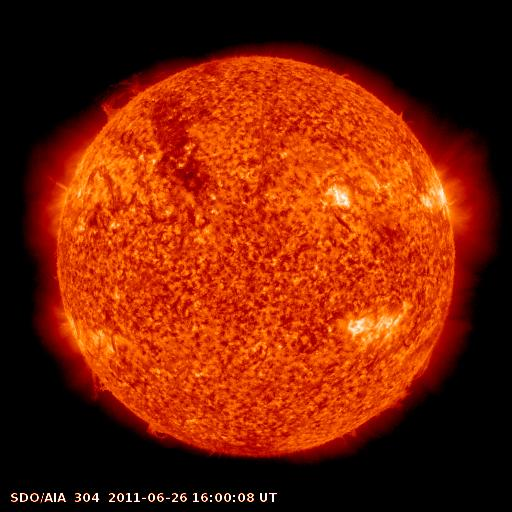prominence: (378, 349, 435, 417), (100, 70, 168, 122), (80, 358, 117, 405), (140, 417, 180, 449)
